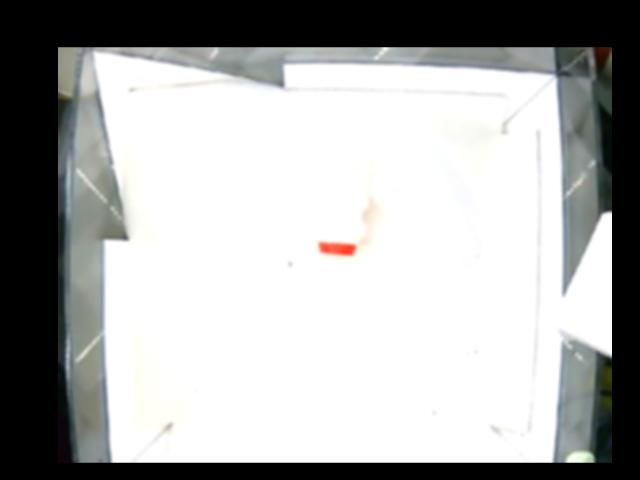Bottle: (386, 145, 523, 280), (313, 171, 370, 255)
